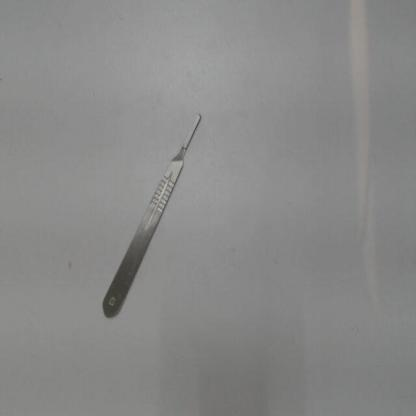No.4 BP Handle: (90, 103, 212, 330)
